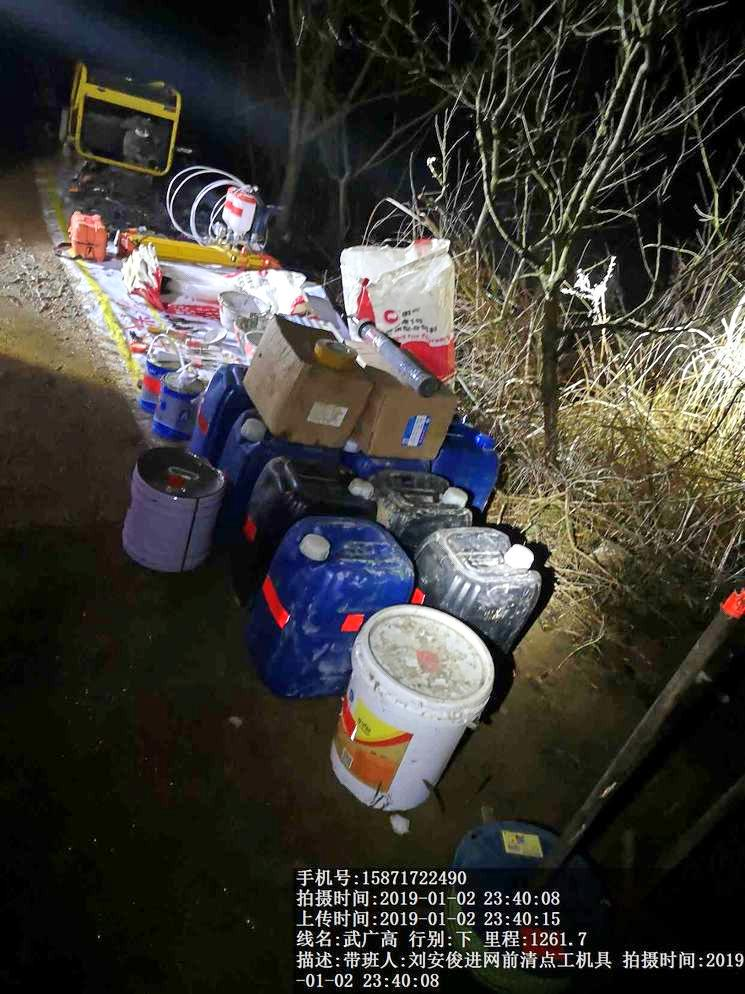DJ: (56, 47, 182, 177)
SLT: (255, 512, 378, 669), (426, 526, 545, 631)
